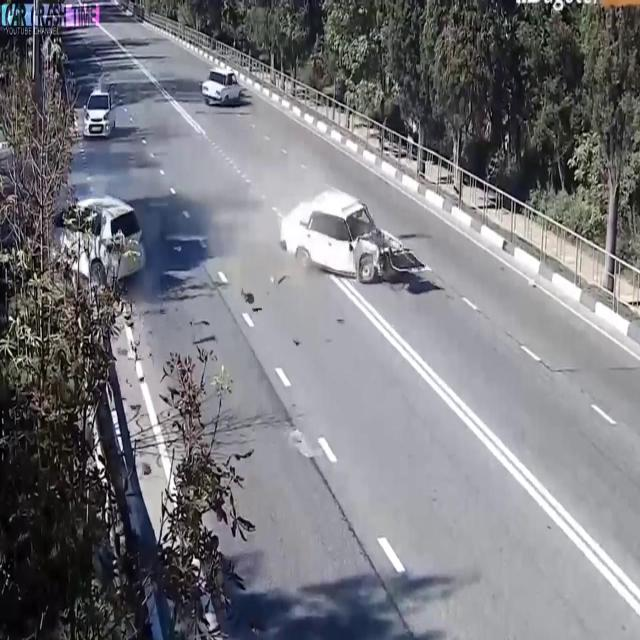accident: (0, 187, 152, 325), (273, 182, 435, 304)
